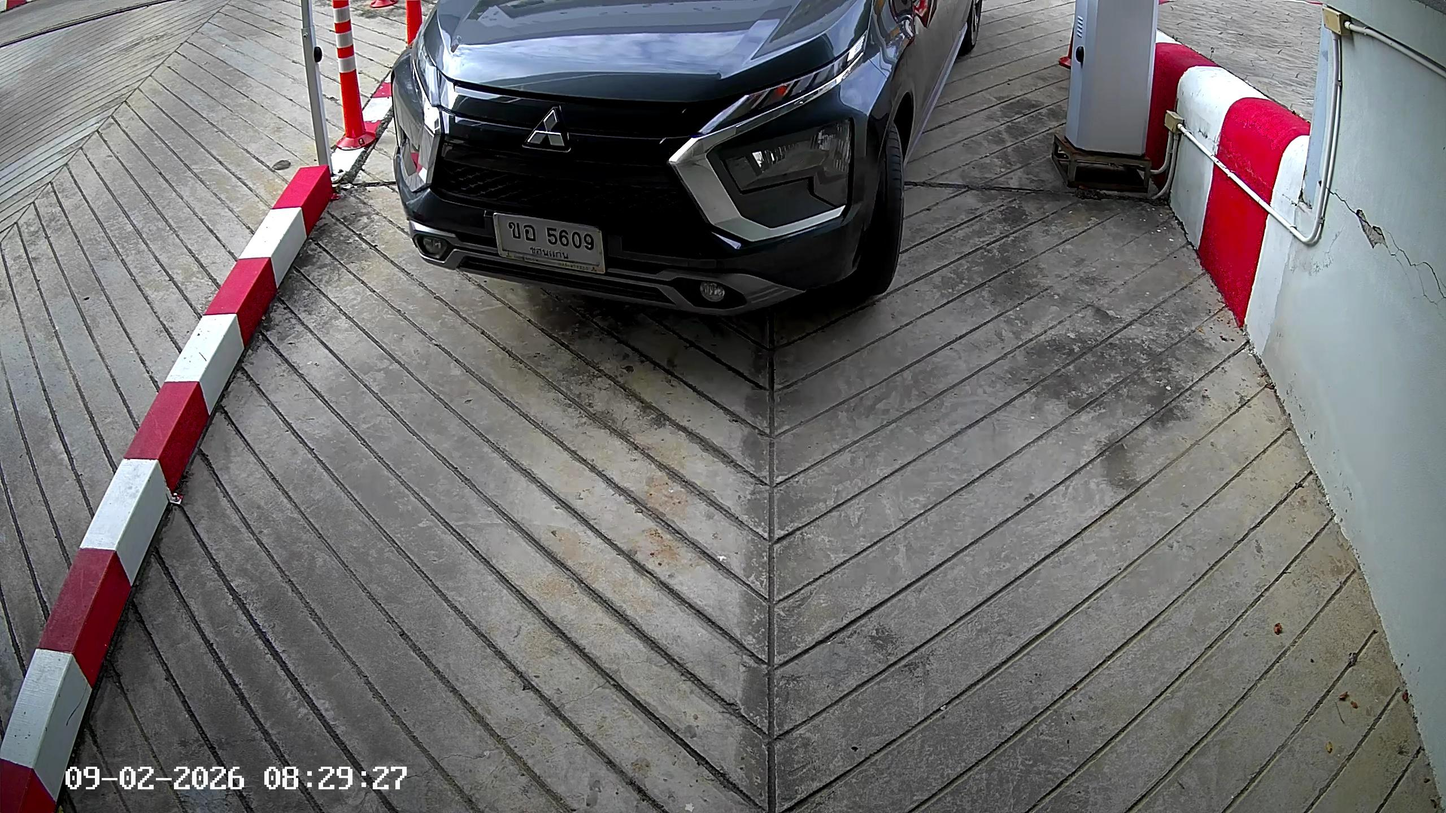car: (390, 2, 983, 324)
license-plate: (490, 207, 608, 280)
